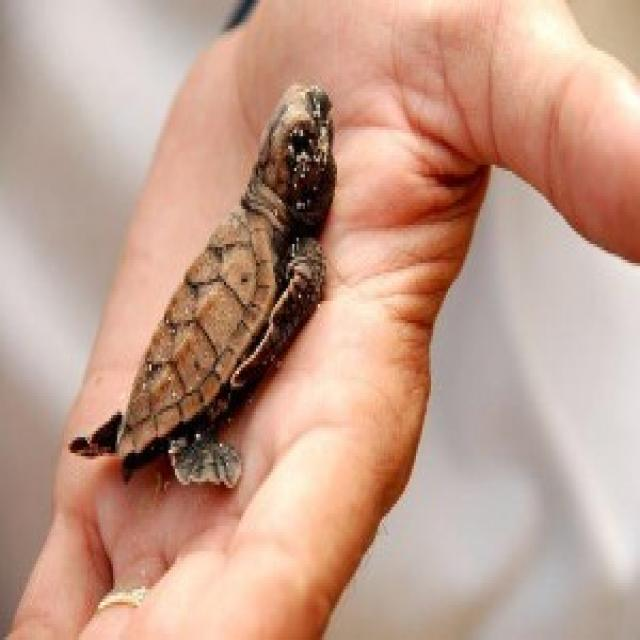Sea turtle: (65, 68, 348, 507)
